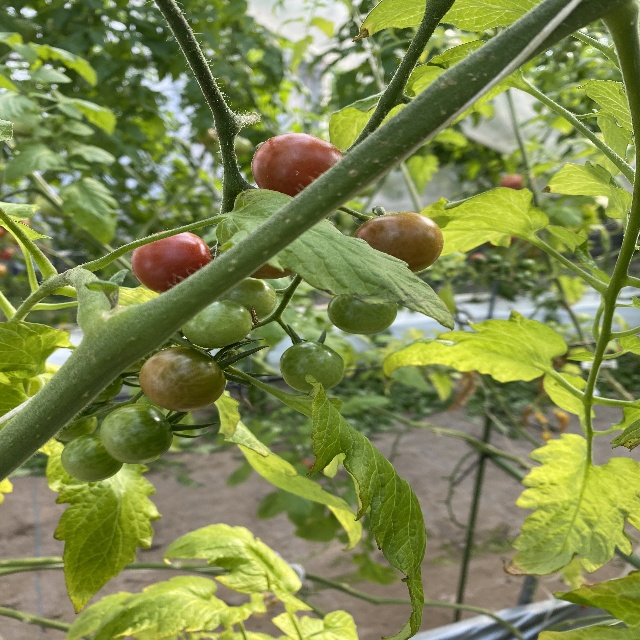l_fully_ripened: (252, 132, 344, 198), (132, 230, 213, 292)
l_green: (101, 404, 173, 464), (182, 300, 252, 348), (280, 340, 344, 392), (61, 434, 124, 482), (328, 294, 398, 335), (214, 278, 277, 321)
l_half_ripened: (140, 346, 227, 412), (352, 211, 445, 272)
